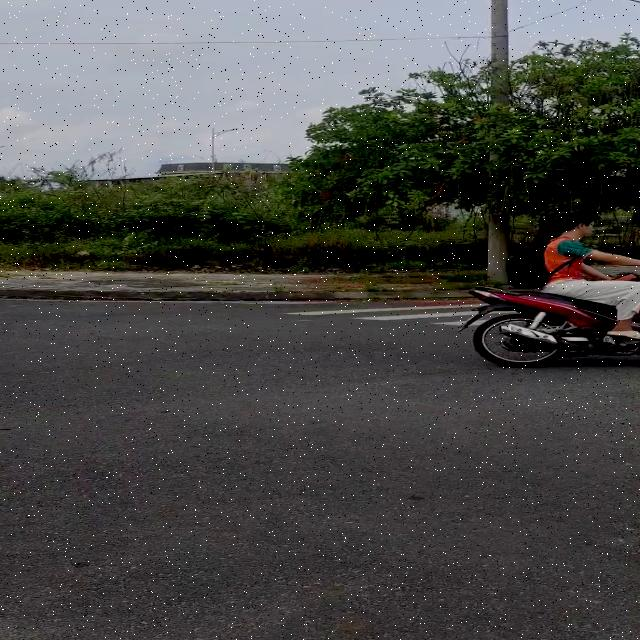no_helmet: (553, 210, 592, 233)
